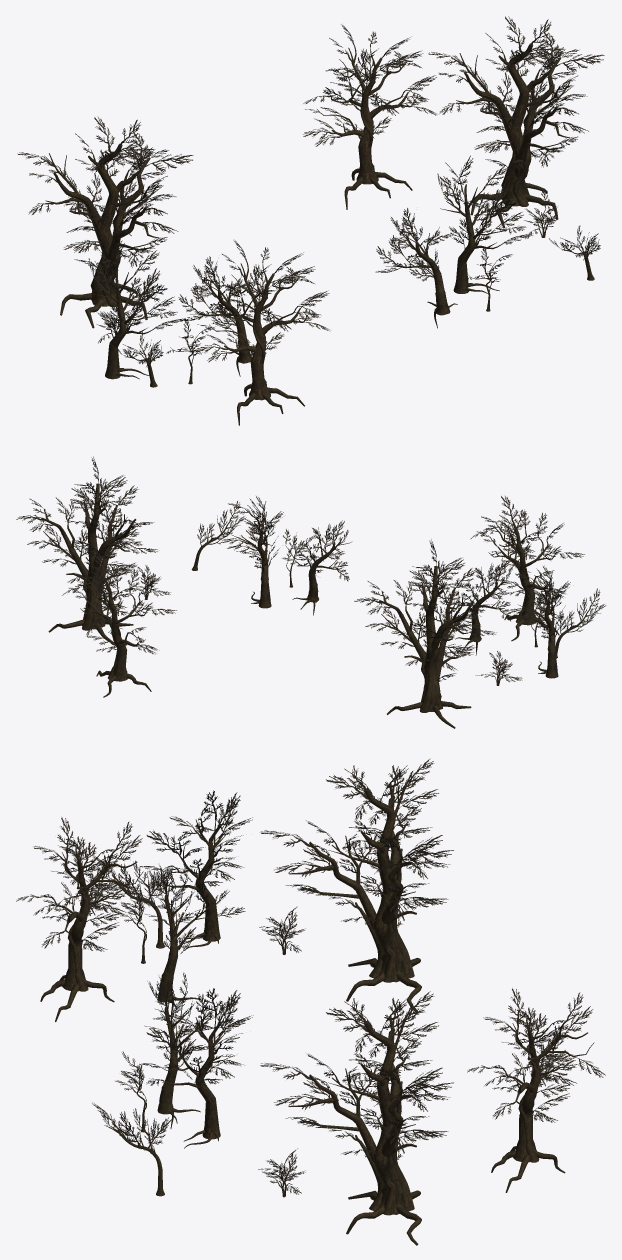
Rendered from trees.glb.
The picture shows the model from 3 angles, top to bottom: view 1: azimuth 30°, elevation 25°; view 2: azimuth 150°, elevation 25°; view 3: azimuth 270°, elevation 25°; orthographic projection. The views are drawn at different scales.
Visible parts, largest first — view 1: tree6_bark_0.001, branch_4_deadbranch_0.001, tree6, branch_4, branch_3_deadbranch_0.001, branch_3, tree5_bark_0.001, tree5, branch__deadbranch_0.001, branch_, tree2, tree2_bark_0.001 (+4 smaller); view 2: branch_4, branch_4_deadbranch_0.001, tree6, tree6_bark_0.001, branch_3_deadbranch_0.001, branch_3, tree5_bark_0.001, tree5, branch_, branch__deadbranch_0.001, branch_deadbranch_0.001, branch (+7 smaller); view 3: tree6_bark_0.001, tree6, branch_4_deadbranch_0.001, branch_4, branch_3, branch_3_deadbranch_0.001, tree5, tree5_bark_0.001, branch__deadbranch_0.001, branch_, branch, tree2_bark_0.001 (+6 smaller).
Boxes of the visible parts, box(x1,y1,x2,y2) form: tree6_bark_0.001: box(455, 43, 573, 227); branch_4_deadbranch_0.001: box(428, 16, 604, 170); tree6: box(45, 143, 163, 328); branch_4: box(17, 117, 193, 269); branch_3_deadbranch_0.001: box(303, 24, 436, 146); branch_3: box(195, 240, 329, 362); tree5_bark_0.001: box(317, 38, 416, 209); tree5: box(209, 256, 308, 425); branch__deadbranch_0.001: box(437, 155, 533, 250); branch_: box(88, 240, 184, 335); tree2: box(91, 265, 161, 379); tree2_bark_0.001: box(440, 180, 509, 293); branch_4: box(354, 539, 496, 681); branch_4_deadbranch_0.001: box(16, 456, 157, 598); tree6: box(379, 566, 474, 728); tree6_bark_0.001: box(41, 483, 136, 644); branch_3_deadbranch_0.001: box(62, 552, 176, 654); branch_3: box(470, 496, 584, 598); tree5_bark_0.001: box(80, 579, 153, 697); tree5: box(488, 522, 561, 641); branch_: box(509, 565, 570, 642); branch__deadbranch_0.001: box(222, 496, 283, 572); branch_deadbranch_0.001: box(282, 520, 349, 581); branch: box(446, 560, 511, 621); tree6_bark_0.001: box(288, 1003, 421, 1245); tree6: box(288, 771, 421, 1012); branch_4_deadbranch_0.001: box(260, 991, 453, 1159); branch_4: box(260, 758, 453, 927); branch_3: box(16, 817, 154, 951); branch_3_deadbranch_0.001: box(467, 988, 605, 1122); tree5: box(38, 844, 143, 1021); tree5_bark_0.001: box(489, 1015, 594, 1192); branch__deadbranch_0.001: box(139, 988, 253, 1087); branch_: box(140, 790, 252, 889); branch: box(145, 860, 245, 953); tree2_bark_0.001: box(162, 1008, 225, 1148).
Bounding box in the file's own units: 9125 × 3021 × 6749.
4 materials, 4 textured.
